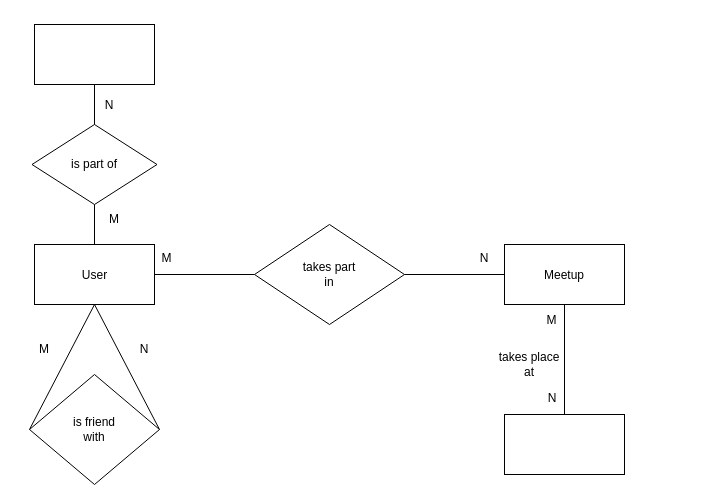
The diagram is 722 pixels wide and 504 high, and some of its shapes have lost their labels. Here are the shapes that lost their labels. From the top down, the box of each, then its label:
(34, 24, 154, 84): Group
(504, 414, 624, 474): Place
